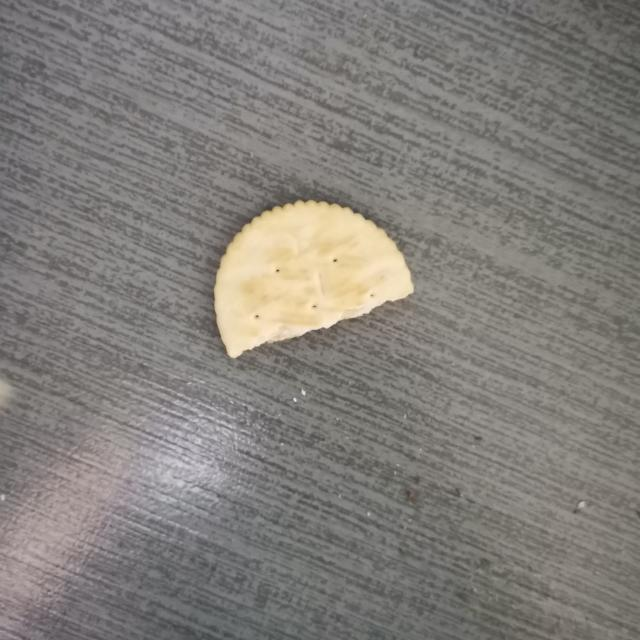Broken: (213, 198, 414, 358)
